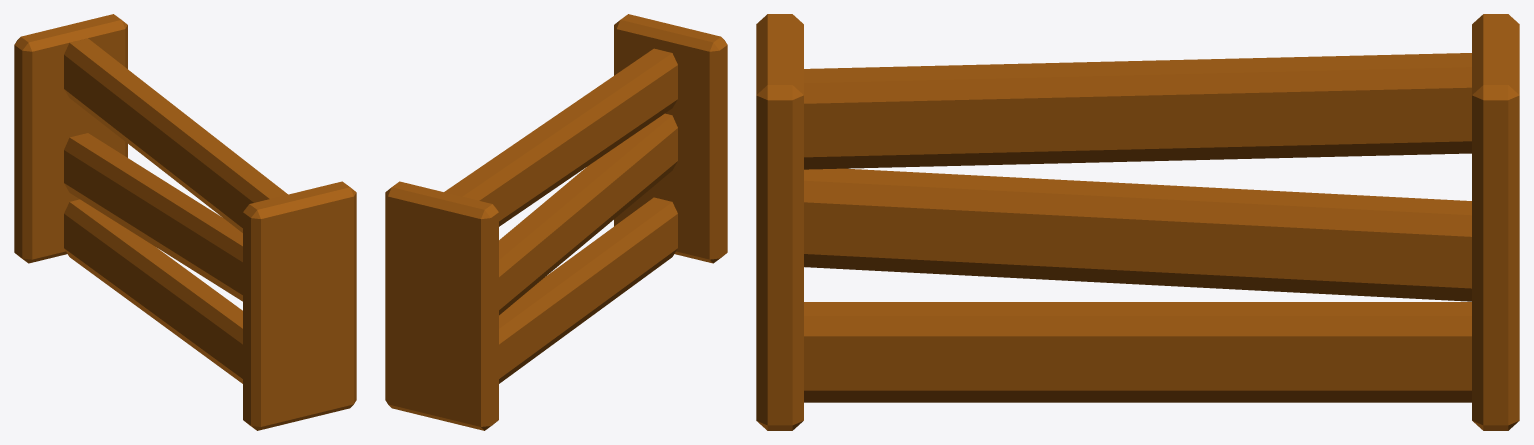
Rendered from NewWoodBarrier.fbx.
3 renders of one model, left to right at view 1: azimuth 30°, elevation 25°; view 2: azimuth 150°, elevation 25°; view 3: azimuth 270°, elevation 25°, orthographic. The views are drawn at different scales.
Parts seen in each view (by area): view 1: Cube.035, Cube.058, Cube.054, Cube.057; view 2: Cube.035, Cube.058, Cube.057, Cube.054; view 3: Cube.058, Cube.057, Cube.054, Cube.035.
Part boxes in pixels (x1,y1,x2,y2): Cube.035: [14, 14, 356, 430]; Cube.058: [64, 38, 287, 232]; Cube.054: [64, 199, 242, 383]; Cube.057: [64, 133, 242, 301]; Cube.035: [385, 14, 727, 430]; Cube.058: [444, 48, 677, 226]; Cube.057: [499, 113, 677, 315]; Cube.054: [499, 197, 677, 383]; Cube.058: [804, 53, 1471, 169]; Cube.057: [804, 168, 1471, 301]; Cube.054: [804, 302, 1471, 402]; Cube.035: [756, 14, 1519, 430].
Size of the model in its own units: 1 by 2 by 4.
